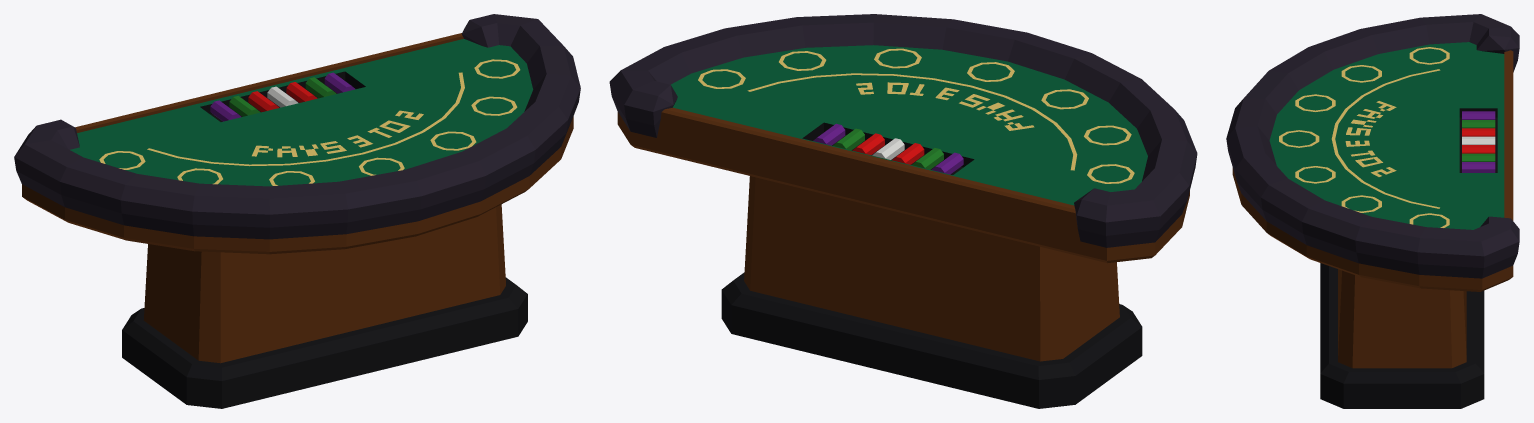
The model's file is blackjack-table-6794fe.glb.
3 renders of one model, left to right at view 1: azimuth 30°, elevation 25°; view 2: azimuth 150°, elevation 25°; view 3: azimuth 270°, elevation 25°, orthographic. The views are drawn at different scales.
Parts seen in each view (by area): view 1: blackjack-table-body, chips-mesh; view 2: blackjack-table-body, chips-mesh; view 3: blackjack-table-body, chips-mesh.
Boxes of the visible parts, <box> form: blackjack-table-body: <box>14,14,580,408</box>; chips-mesh: <box>210,72,355,121</box>; blackjack-table-body: <box>609,14,1197,408</box>; chips-mesh: <box>813,123,963,174</box>; blackjack-table-body: <box>1226,14,1519,408</box>; chips-mesh: <box>1462,111,1495,172</box>.
Size of the model in its own units: 1.9 by 0.78 by 1.
